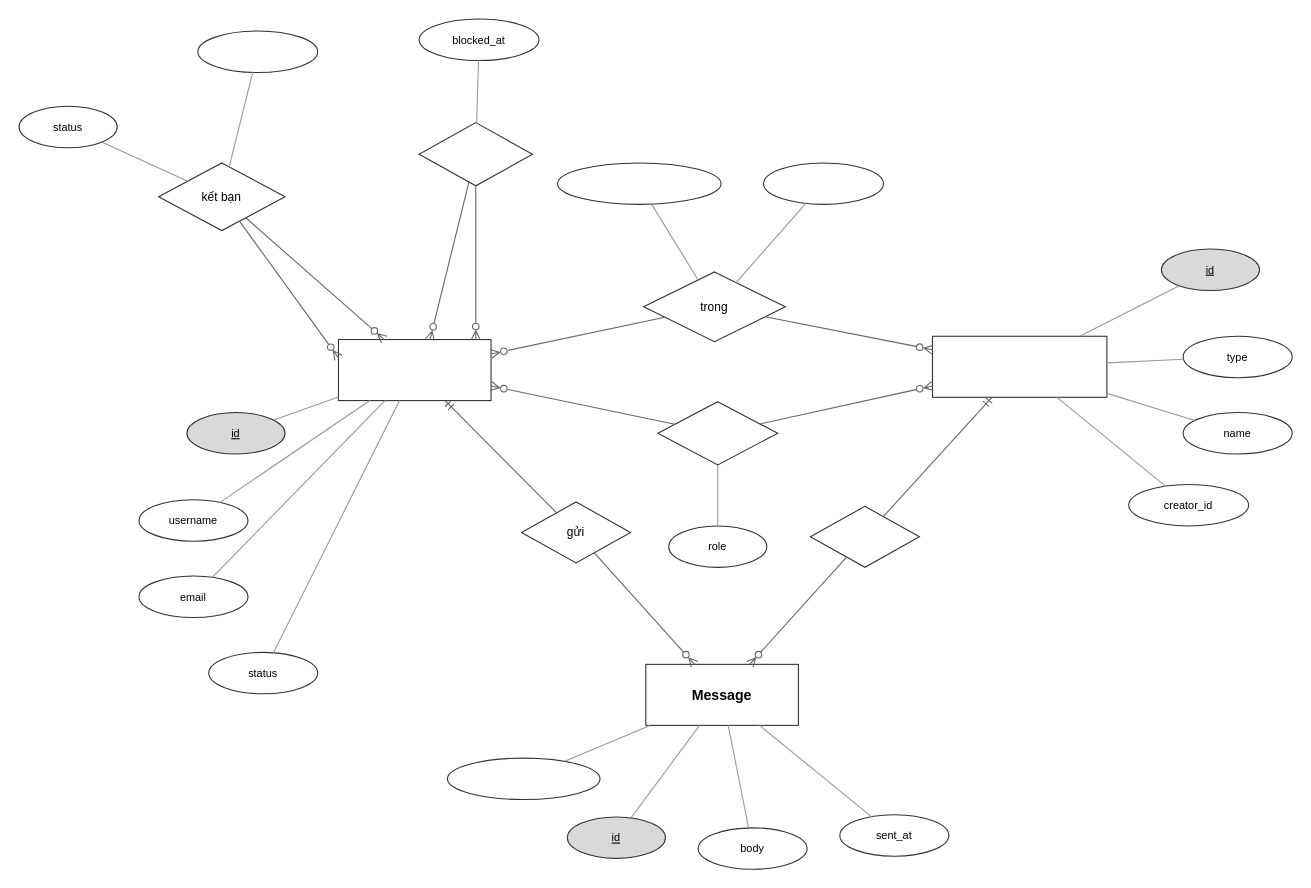
Some shapes in this 1311 by 888 pixel diagram are drawn without their labels. The shapes that lost their labels are listed below. From the top down, each one's centre as x and y in pixels, then its label:
At (x=257, y=51): "requester_id".
At (x=475, y=154): "chặn".
At (x=638, y=183): "last_read_message_id".
At (x=822, y=183): "muted_until".
At (x=414, y=369): "User".
At (x=1019, y=366): "Conversation".
At (x=717, y=433): "vai trò".
At (x=864, y=536): "chứa".
At (x=523, y=778): "reply_to_message_id".
